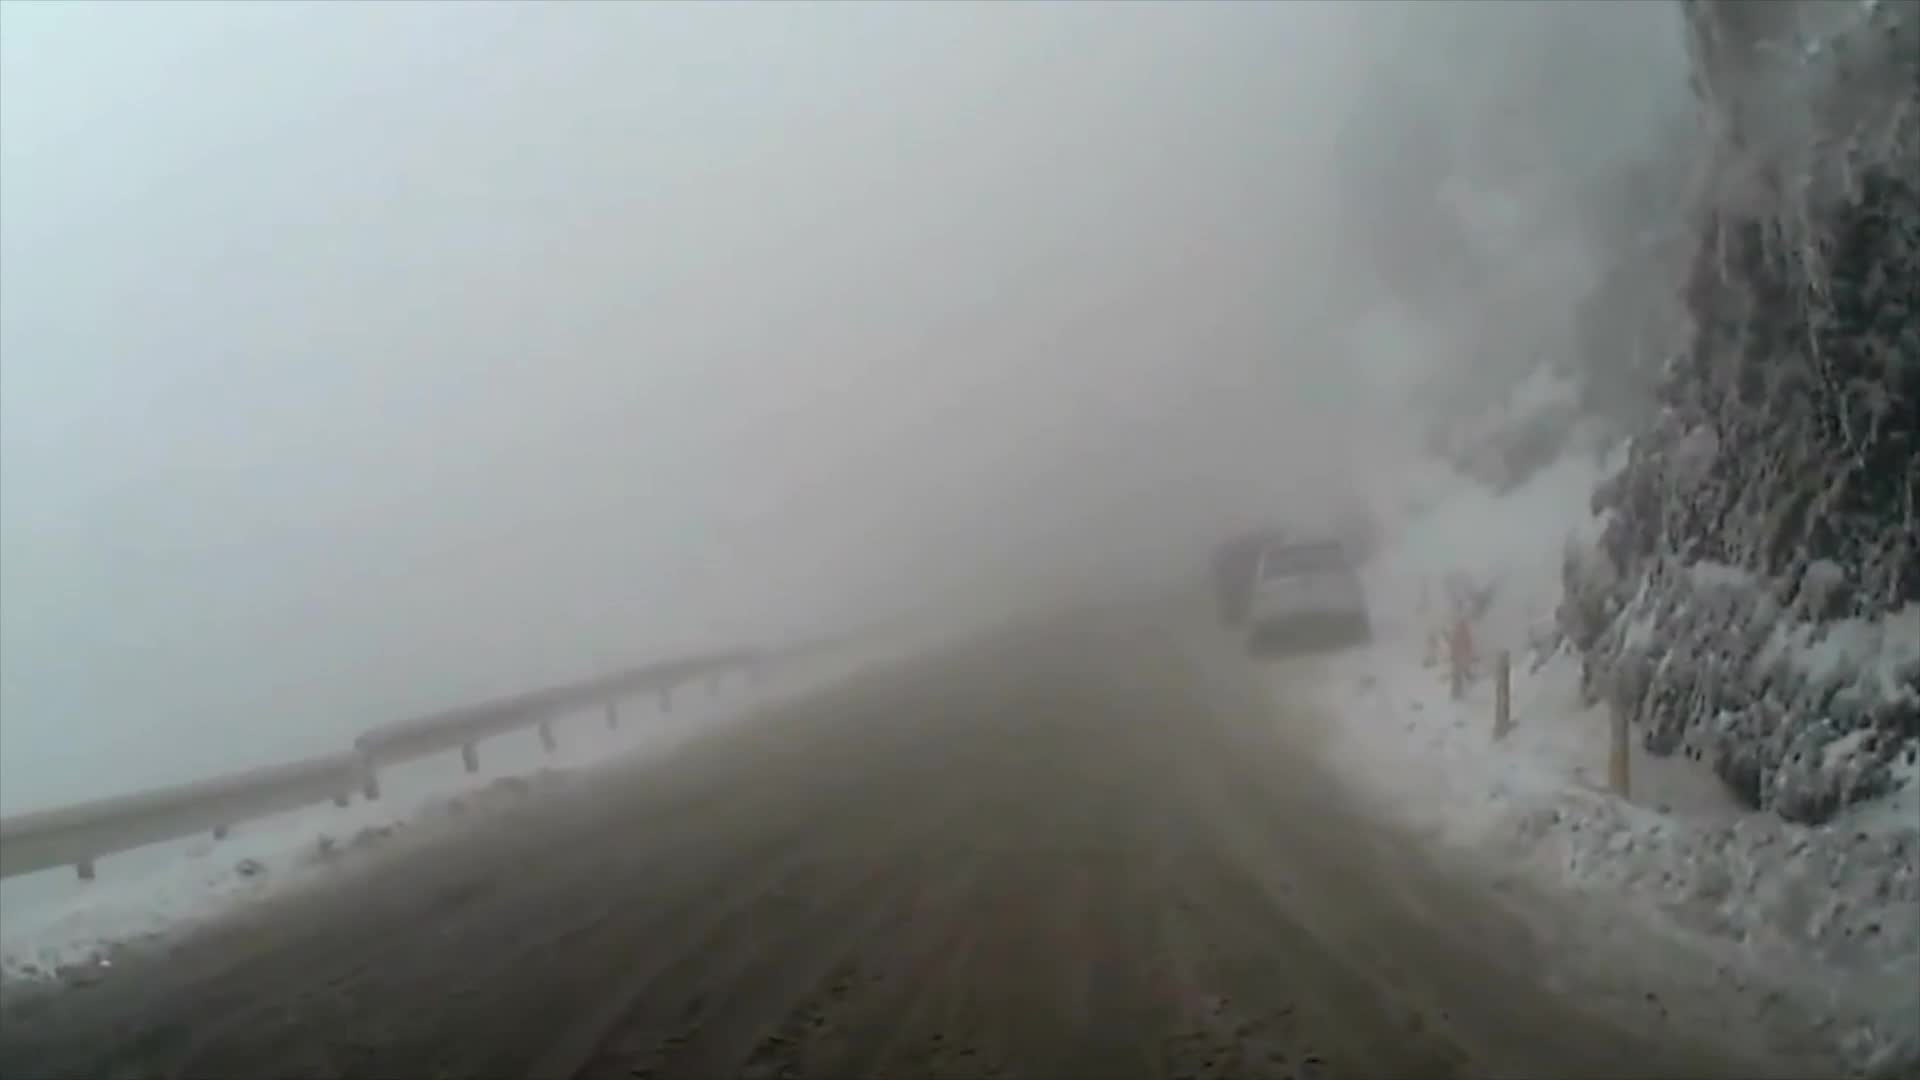vehicle: (1245, 534, 1367, 654)
